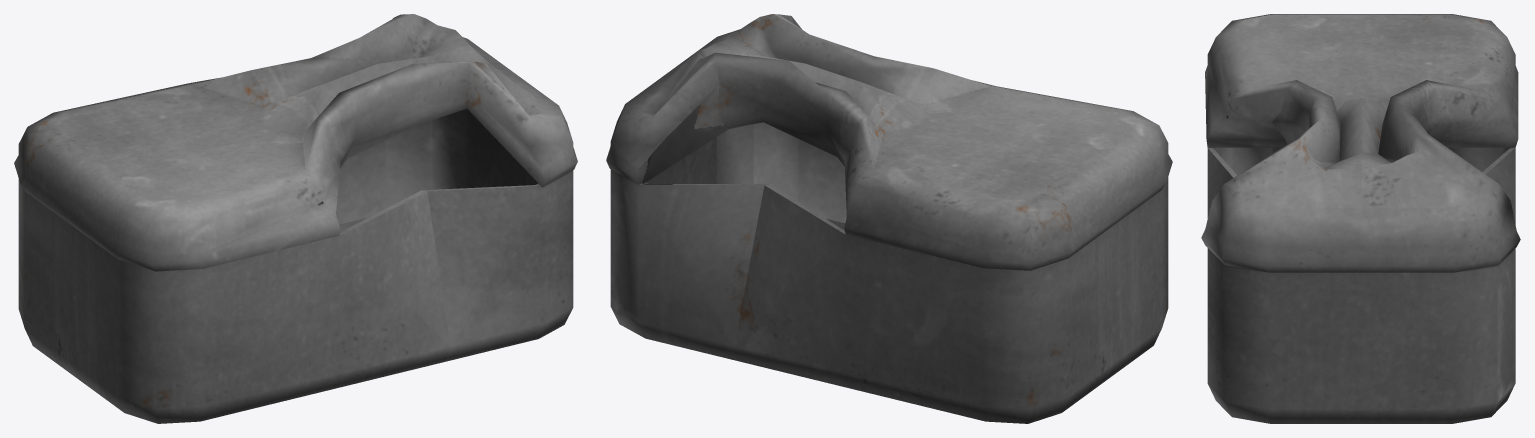
File: smallVaultBroken.fbx
3 views of the same model, side by side, from view 1: azimuth 30°, elevation 25°; view 2: azimuth 150°, elevation 25°; view 3: azimuth 270°, elevation 25° (orthographic).
Parts seen in each view (by area): view 1: smallVaultBroken; view 2: smallVaultBroken; view 3: smallVaultBroken.
Boxes of the visible parts, bbox=[...] form: smallVaultBroken: bbox=[14, 14, 577, 423]; smallVaultBroken: bbox=[606, 14, 1172, 423]; smallVaultBroken: bbox=[1201, 14, 1520, 423].
Size of the model in its own units: 0.7534 by 0.4169 by 0.4604.
1 material, 1 textured.
